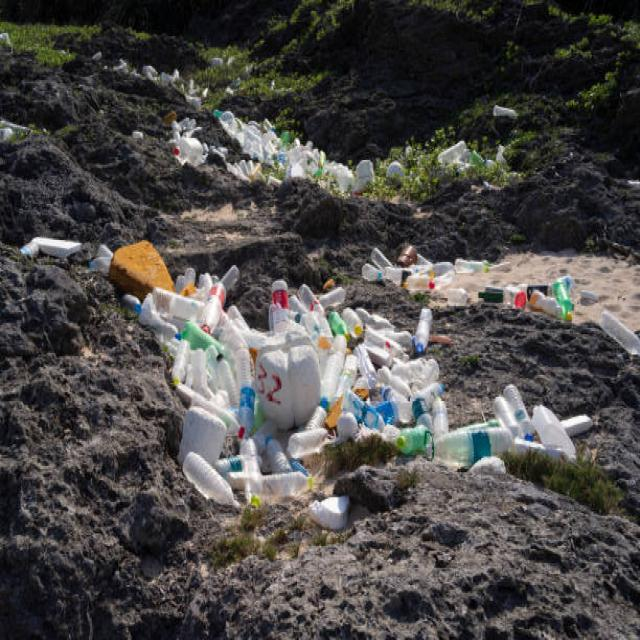plastic: (119, 255, 546, 492), (216, 106, 354, 190), (163, 118, 204, 180), (547, 259, 569, 318)
